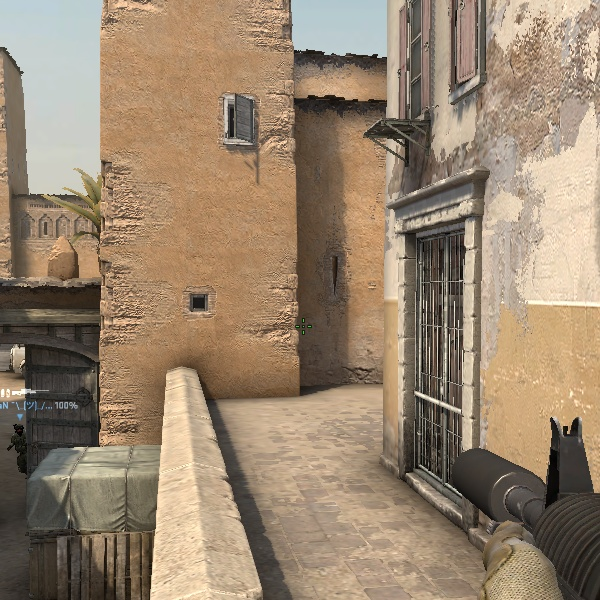ct_body: (6, 423, 36, 478)
ct_head: (13, 424, 25, 437)
